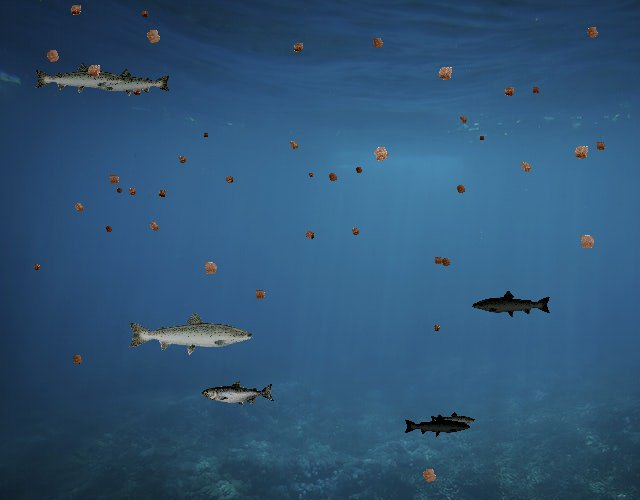Fish: (126, 310, 255, 356), (33, 62, 127, 96), (86, 67, 172, 98), (471, 290, 552, 319), (202, 380, 275, 406), (403, 413, 471, 438), (429, 412, 476, 429)
Pellet: (431, 59, 460, 88), (567, 139, 595, 167), (580, 20, 604, 44), (288, 37, 309, 58), (451, 180, 470, 199), (347, 224, 364, 241), (429, 321, 444, 335), (30, 260, 44, 274)
